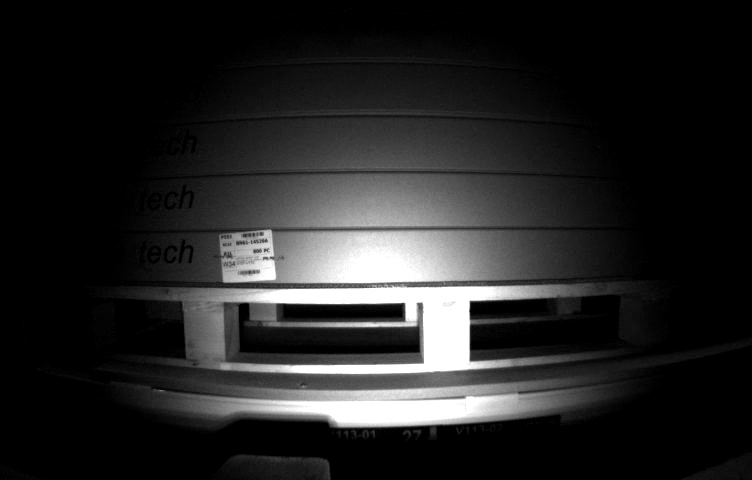True Barcode: (221, 228, 278, 282)
